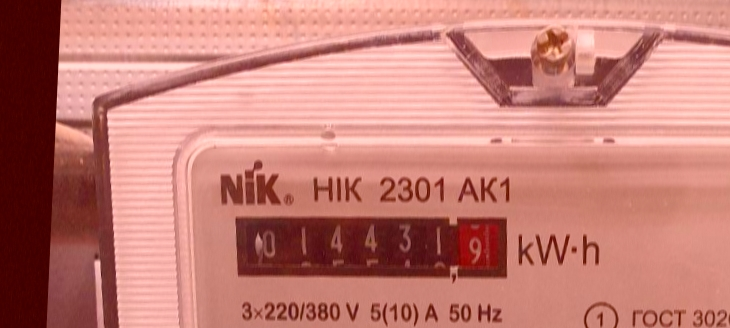0: (255, 225, 277, 259)
1: (292, 222, 311, 256), (429, 223, 443, 256)
3: (392, 221, 412, 254)
4: (323, 220, 345, 254), (358, 219, 377, 254)
9: (462, 233, 481, 264)
screen: (221, 197, 520, 296)
